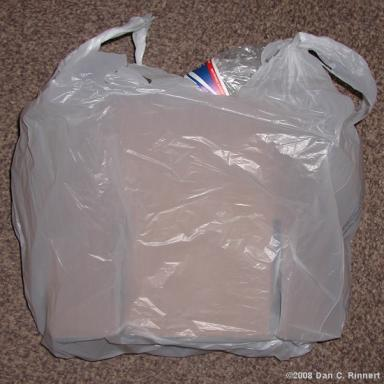plasticbag: (11, 14, 368, 346)
